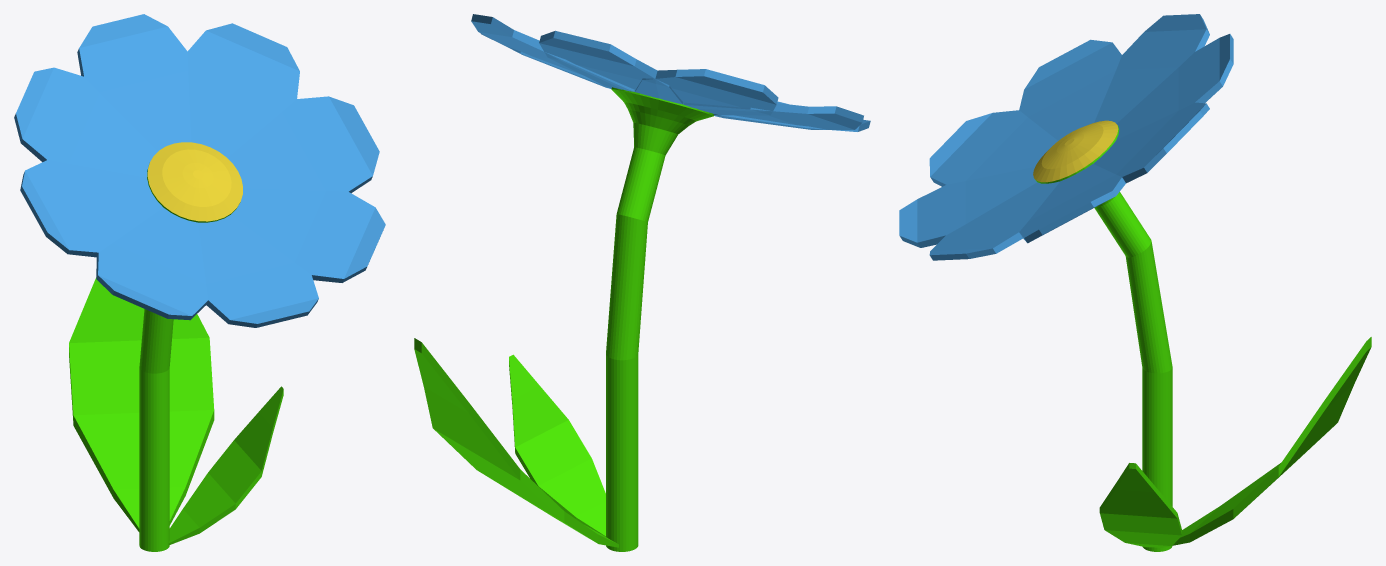
File: Kwiatek3.fbx
3 renders of one model, left to right at view 1: azimuth 30°, elevation 25°; view 2: azimuth 150°, elevation 25°; view 3: azimuth 270°, elevation 25°, orthographic. The views are drawn at different scales.
Visible parts, largest first — view 1: Circle; view 2: Circle; view 3: Circle.
Part boxes in pixels (x1,y1,x2,y2): Circle: (14, 14, 385, 551); Circle: (414, 14, 870, 551); Circle: (899, 14, 1371, 551).
Size of the model in its own units: 893 by 1281 by 1098.
